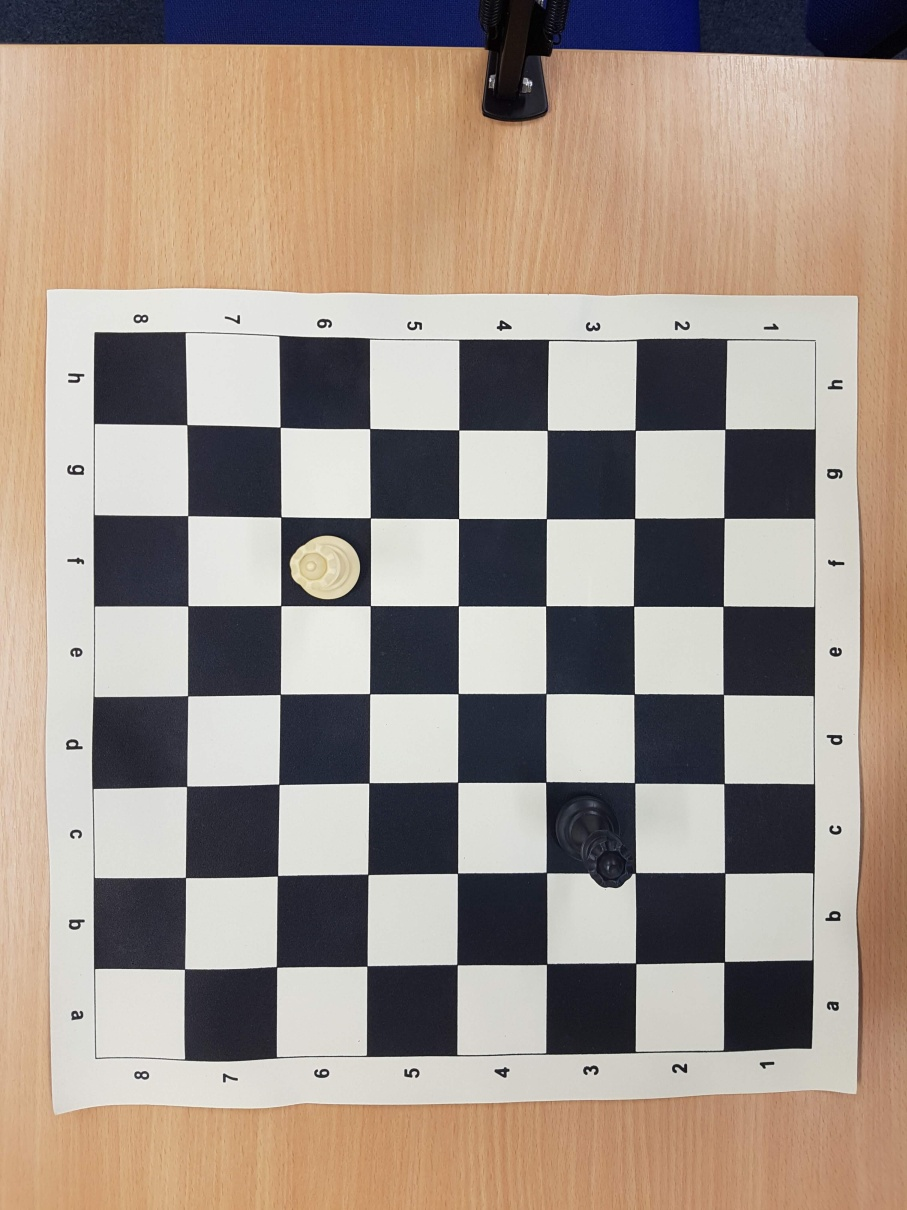chess_queen: (555, 796, 633, 889), (289, 535, 361, 600)
